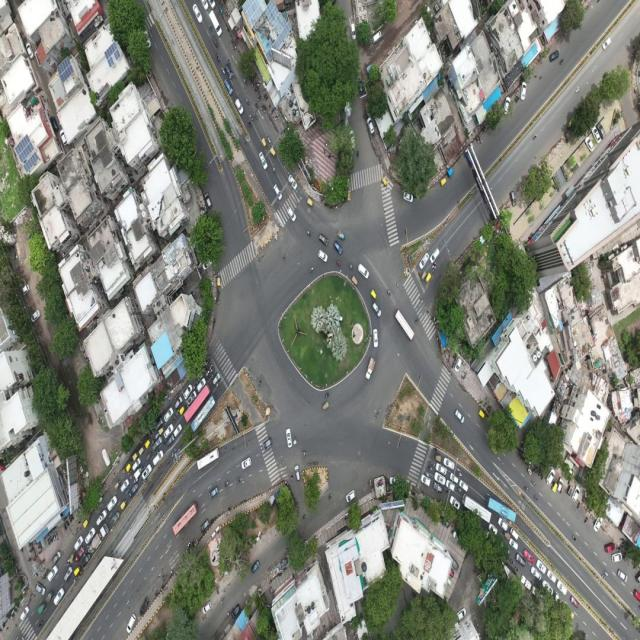3W: (304, 196, 316, 210), (566, 116, 576, 132), (37, 601, 47, 616), (82, 514, 90, 532), (268, 146, 278, 160), (477, 406, 487, 420), (259, 135, 268, 150), (369, 286, 378, 301), (447, 164, 456, 179), (46, 588, 54, 603), (120, 496, 128, 511), (211, 35, 219, 50), (349, 275, 358, 288), (502, 529, 511, 542), (132, 448, 139, 464), (381, 174, 388, 190), (425, 270, 432, 286), (439, 176, 447, 190), (551, 479, 558, 495), (73, 564, 82, 576), (70, 548, 76, 566), (113, 478, 122, 490), (145, 449, 152, 464), (420, 268, 427, 282), (158, 424, 166, 436), (433, 452, 442, 462), (126, 459, 132, 473), (179, 404, 186, 416), (216, 274, 222, 288), (139, 446, 145, 458), (145, 437, 151, 449)
Bus: (183, 382, 211, 423), (486, 489, 517, 524), (190, 394, 217, 434), (461, 493, 492, 524), (392, 305, 415, 343), (194, 448, 220, 472)
Cars: (246, 554, 264, 575), (53, 584, 66, 610), (46, 560, 60, 584), (190, 1, 203, 24), (500, 94, 512, 118), (138, 596, 151, 618), (344, 484, 357, 506), (356, 262, 371, 281), (583, 134, 595, 156), (198, 516, 211, 536), (231, 602, 244, 622), (518, 79, 529, 102), (126, 612, 137, 634), (366, 116, 377, 138), (596, 118, 607, 140), (356, 73, 366, 97), (260, 436, 273, 454), (202, 599, 215, 617), (600, 34, 613, 52), (508, 186, 518, 209), (370, 300, 382, 319), (442, 456, 456, 472), (84, 528, 97, 545), (529, 566, 542, 583), (96, 509, 108, 527), (293, 462, 302, 486), (417, 251, 429, 269), (546, 48, 560, 63), (428, 247, 440, 264), (454, 408, 466, 425), (273, 182, 283, 202), (287, 204, 297, 224), (107, 493, 118, 511), (372, 328, 381, 350), (544, 468, 555, 486), (150, 435, 163, 450), (542, 581, 555, 596), (34, 581, 46, 597), (51, 548, 63, 564), (285, 426, 293, 450), (318, 231, 330, 247), (617, 569, 629, 585), (523, 548, 535, 564), (449, 495, 461, 511), (434, 472, 446, 488), (75, 545, 85, 564), (74, 532, 84, 551), (234, 96, 244, 115), (593, 515, 603, 534), (454, 355, 463, 376), (204, 189, 213, 210), (82, 553, 93, 570), (287, 173, 298, 190), (259, 150, 268, 170), (569, 595, 581, 610), (19, 605, 30, 621), (186, 390, 197, 406), (333, 240, 344, 256), (349, 128, 357, 150), (557, 580, 568, 596), (536, 558, 547, 574), (184, 383, 193, 402), (224, 79, 234, 96), (152, 450, 164, 464), (317, 248, 329, 262), (350, 20, 358, 41), (435, 462, 447, 476), (110, 513, 121, 528), (129, 483, 139, 499), (142, 465, 152, 481), (174, 422, 184, 438), (547, 568, 557, 584), (241, 457, 253, 470), (401, 192, 414, 204), (420, 474, 432, 487), (224, 63, 233, 80), (120, 478, 130, 493), (64, 565, 72, 583), (488, 524, 500, 536), (208, 486, 219, 499), (516, 553, 527, 566), (164, 408, 174, 422), (373, 32, 383, 46), (610, 553, 624, 563), (572, 484, 579, 504), (164, 423, 173, 438), (509, 539, 520, 551), (445, 480, 456, 492), (459, 480, 469, 493), (433, 481, 443, 494), (197, 378, 206, 392), (604, 541, 616, 551), (557, 475, 563, 495), (497, 520, 509, 530), (449, 473, 459, 485), (133, 458, 141, 472), (166, 436, 175, 448), (154, 418, 163, 430), (213, 373, 221, 386), (175, 395, 182, 409), (510, 526, 518, 538), (593, 132, 600, 142), (209, 0, 216, 9)
LCV: (208, 8, 222, 36), (365, 355, 376, 381), (520, 575, 532, 591), (336, 227, 347, 243)
M2W: (240, 74, 250, 89), (303, 225, 313, 239), (236, 471, 245, 486), (572, 84, 582, 96), (574, 498, 583, 511), (265, 132, 273, 146), (305, 264, 315, 275), (288, 466, 294, 484), (300, 447, 309, 459), (334, 257, 342, 269), (522, 482, 530, 494), (570, 531, 578, 543), (37, 618, 44, 630), (215, 51, 221, 65), (249, 110, 255, 124), (253, 110, 259, 124), (223, 478, 230, 490), (186, 538, 192, 552), (301, 511, 308, 523), (584, 512, 590, 526), (192, 537, 198, 550), (327, 490, 333, 503), (153, 588, 160, 599), (229, 39, 235, 51), (168, 568, 176, 577), (532, 131, 538, 143), (600, 572, 606, 584), (426, 464, 434, 473), (226, 55, 233, 65), (160, 582, 167, 592), (533, 493, 540, 503), (429, 458, 436, 468), (63, 523, 69, 534), (220, 65, 226, 76), (246, 95, 251, 108), (225, 23, 230, 36), (26, 555, 33, 564), (513, 87, 520, 96), (530, 478, 537, 487), (28, 544, 34, 554), (54, 530, 59, 542), (65, 518, 71, 528), (208, 23, 214, 33), (246, 120, 252, 130), (272, 163, 277, 175), (387, 287, 392, 299), (559, 56, 565, 66), (603, 568, 609, 578), (32, 555, 40, 562), (431, 266, 439, 273), (456, 488, 464, 495), (324, 391, 330, 400), (433, 446, 439, 455), (510, 557, 515, 567), (455, 465, 462, 472), (423, 471, 430, 478), (83, 549, 89, 557), (227, 505, 233, 513), (443, 487, 449, 495), (267, 103, 272, 112), (350, 264, 355, 273), (356, 145, 359, 160), (40, 558, 46, 565), (128, 469, 134, 476), (171, 416, 177, 423), (173, 394, 180, 400), (514, 97, 520, 104), (456, 472, 463, 478), (162, 438, 167, 446), (514, 564, 518, 574), (38, 549, 44, 555), (49, 535, 53, 544), (66, 558, 70, 567), (151, 438, 155, 447), (176, 408, 180, 417), (215, 381, 219, 390), (208, 363, 214, 369), (206, 354, 211, 361), (269, 108, 274, 115), (257, 80, 262, 87), (46, 538, 50, 546), (208, 358, 212, 366), (262, 90, 266, 98), (52, 532, 55, 542), (122, 466, 125, 476), (139, 473, 142, 483), (263, 105, 266, 115), (79, 570, 83, 577), (210, 367, 214, 374), (205, 371, 210, 376), (130, 474, 134, 480), (156, 432, 159, 440), (210, 374, 216, 378), (206, 377, 210, 383), (275, 115, 278, 123), (262, 95, 268, 99), (255, 90, 261, 94), (74, 576, 77, 583), (134, 477, 137, 484), (255, 101, 258, 108), (192, 385, 196, 390), (264, 97, 268, 102), (254, 87, 259, 91), (253, 83, 257, 88), (260, 104, 263, 110), (258, 94, 260, 101), (142, 482, 146, 484)
Truck: (87, 522, 110, 555)
